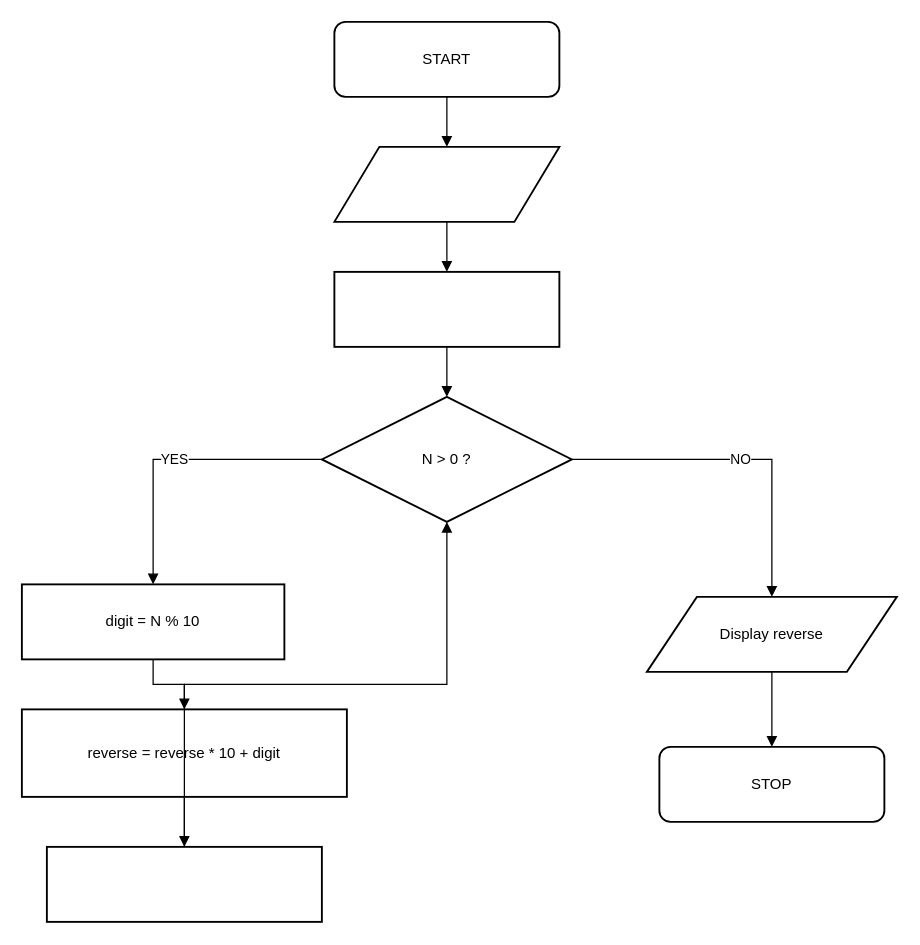
Image size: 920x945. Some labels were removed from this diagram. The shapes that lost their labels are listed below. From the top down, each one's centre as x and y in pixels, then its label:
point 446,183: Input N
point 446,308: reverse = 0
point 183,883: N = N / 10
